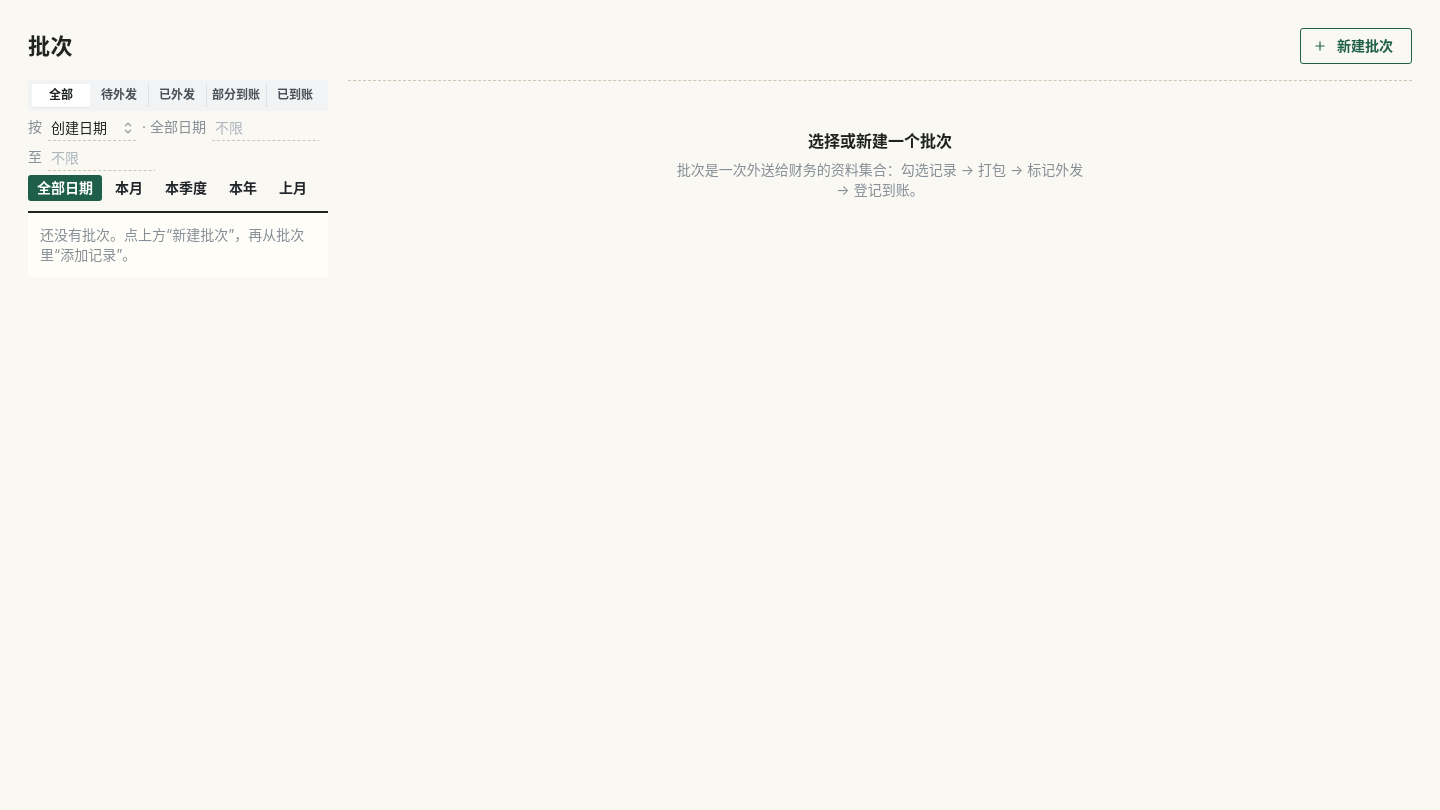
it: BatchesPage › creating a batch selects it and opens the add-records modal
Click the button "新建批次": (1356,46) [1300,28,1412,64]
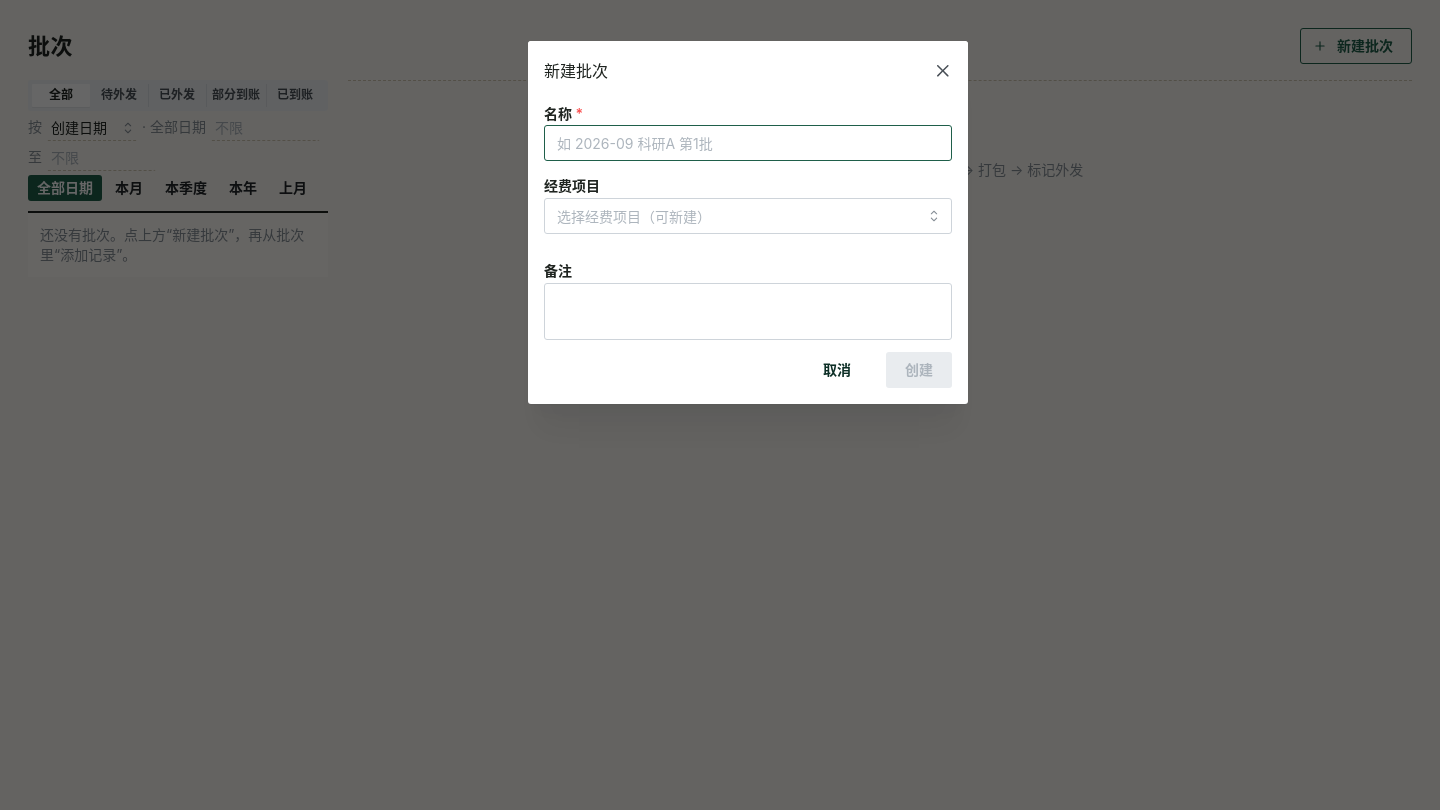
In the field labelled "名称 *": (748,143) [544,125,952,161], type "10月第1批"
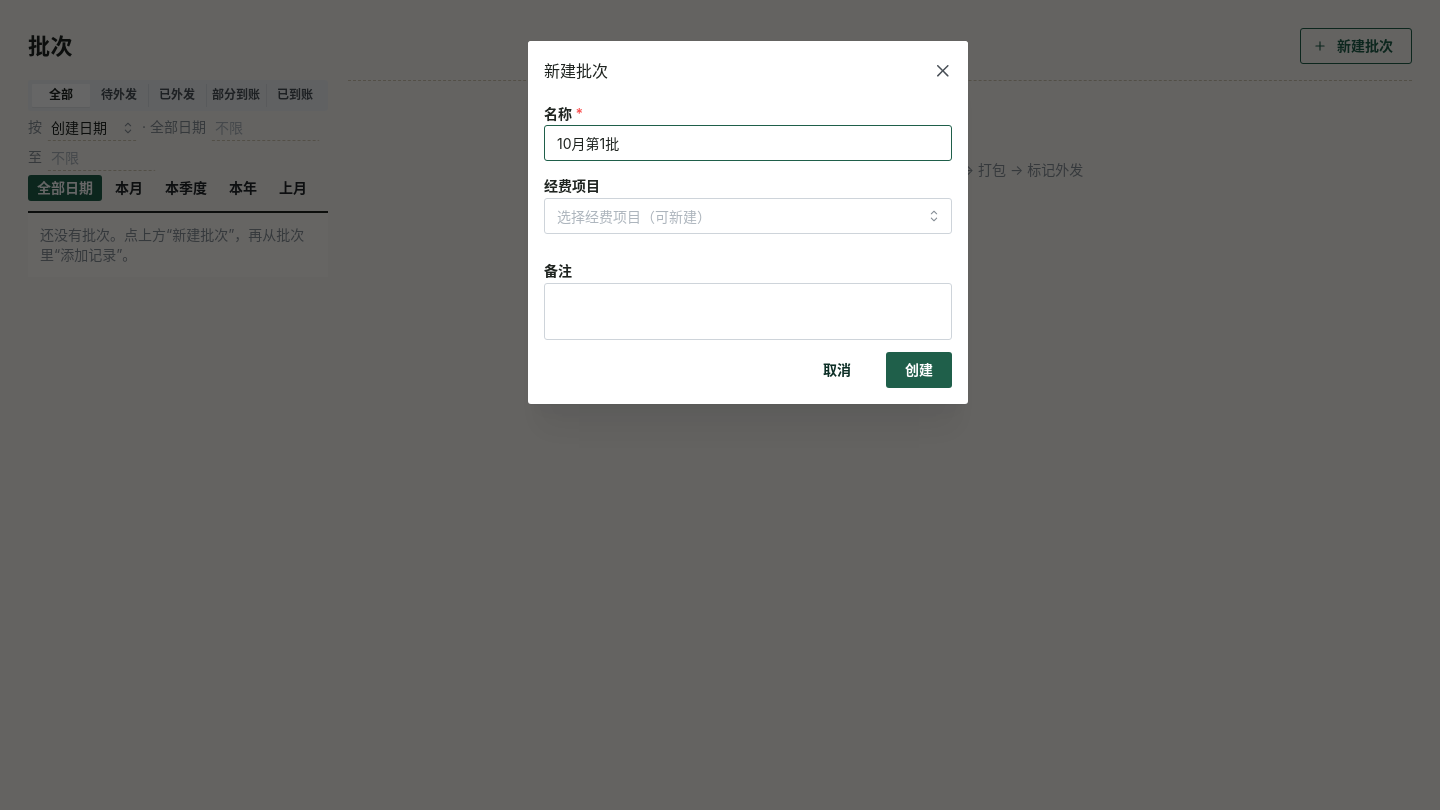
Click the button "创建": (919,370) [886,352,952,388]
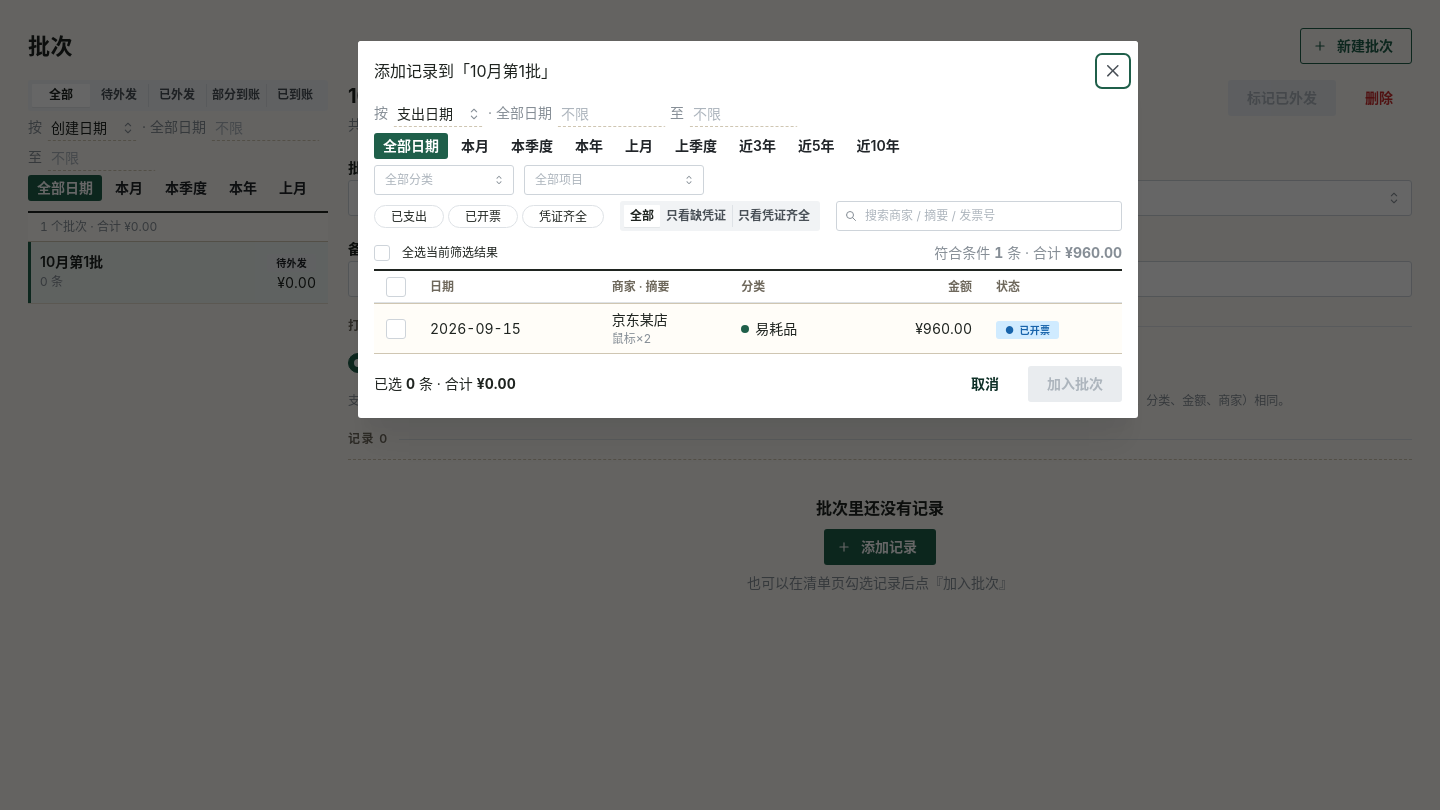
expect the heading "添加记录到「10月第1批」" is shown: met, box [374,62,557,78]
expect the checkbox named "选择 京东某店" is shown: met, box [386,319,406,339]
